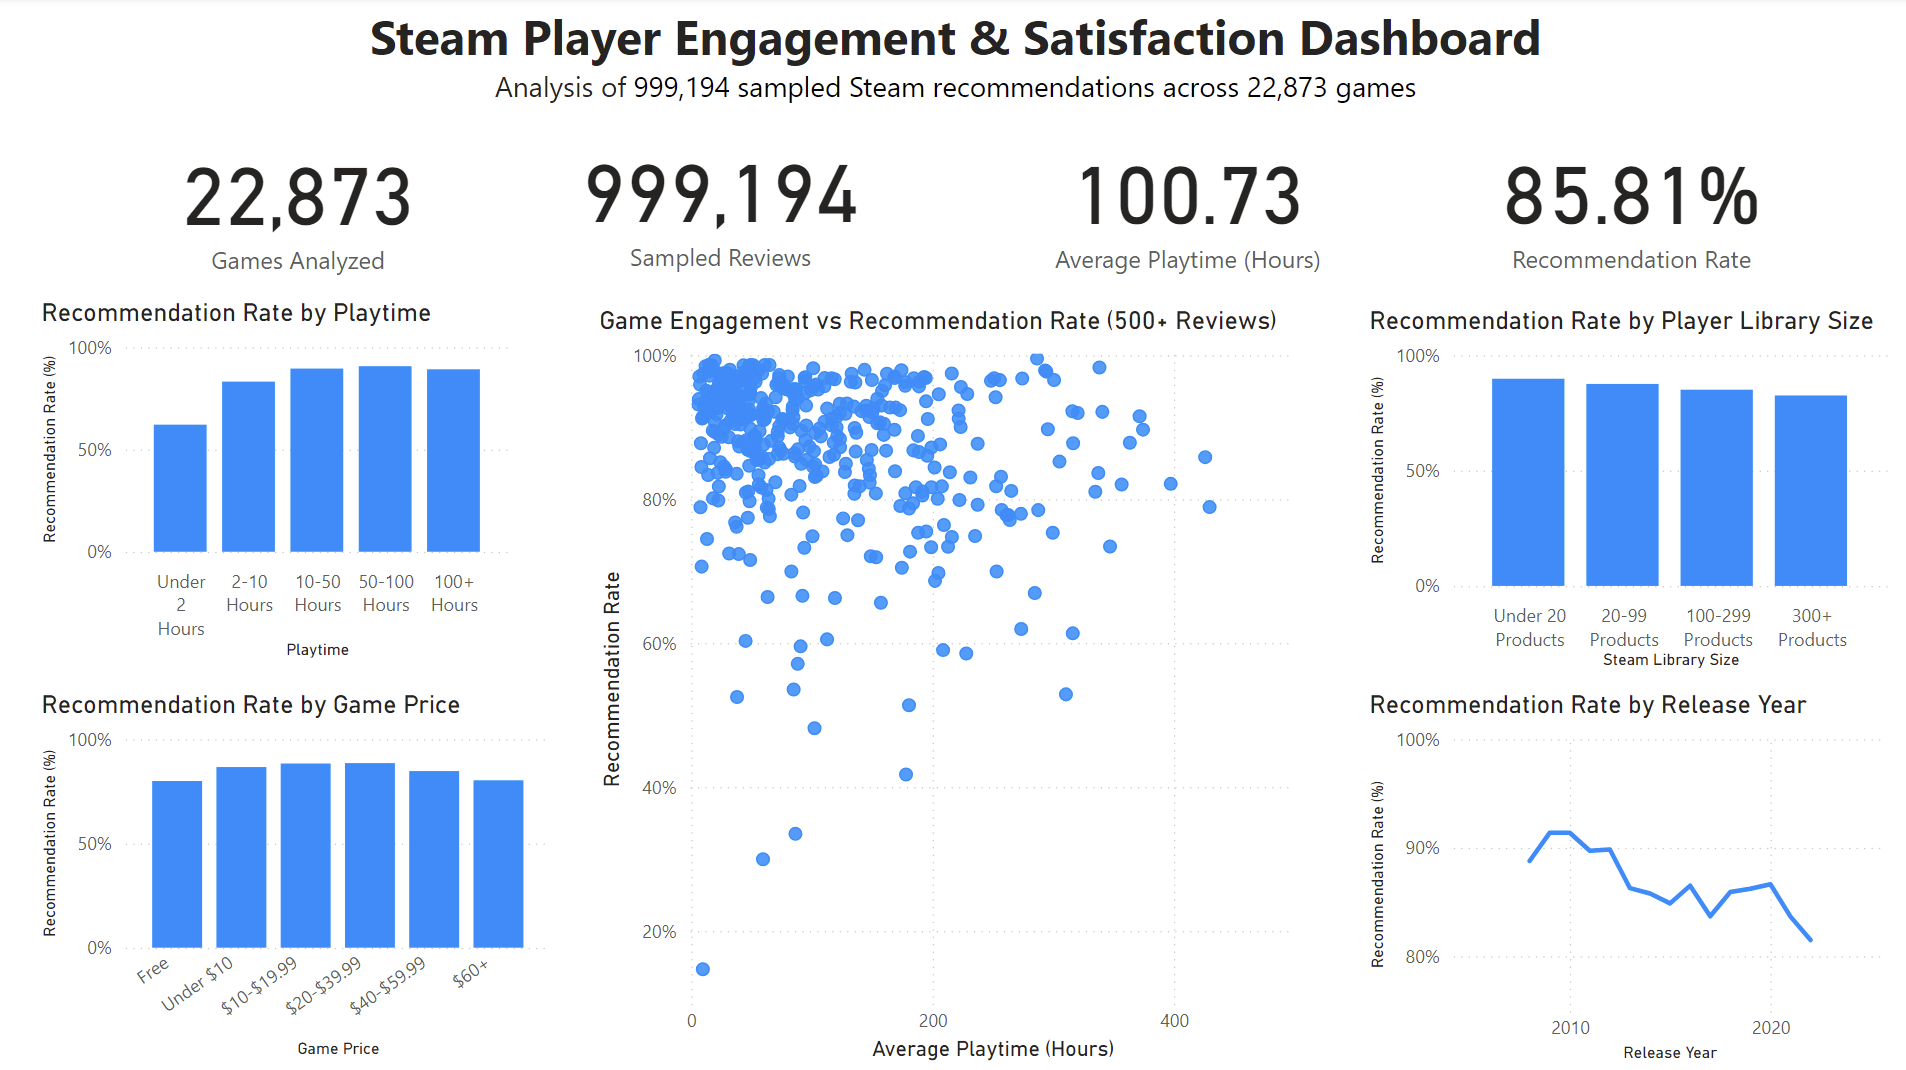

The page's visual inventory and layout, read from the dashboard file:
{"tool":"powerbi","page":{"name":"Page 1","canvas":[1280,720],"ordinal":0},"visuals":[{"type":"card","fields":{"Values":["public vw_game_performance.Games Analyzed"]},"box":[80.5,82,241.5,113],"z":0},{"type":"card","fields":{"Values":["public vw_game_performance.Sampled Reviews"]},"box":[376.1,75.8,215.1,119.2],"z":1000},{"type":"card","fields":{"Values":["public vw_game_performance.Average Playtime"]},"box":[693.4,80.5,208.9,114.5],"z":2000},{"type":"card","fields":{"Values":["public vw_game_performance.Recommendation Rate"]},"box":[992.1,80.5,205.9,114.5],"z":3000},{"type":"clusteredColumnChart","title":"Recommendation Rate by Playtime","fields":{"Category":["public vw_playtime_segments.playtime_segment"],"Y":["Sum(public vw_playtime_segments.recommendation_rate)"]},"box":[24.8,202.8,323.5,246.1],"z":4000},{"type":"clusteredColumnChart","title":"Recommendation Rate by Game Price","fields":{"Category":["public vw_price_segments.price_segment"],"Y":["Sum(public vw_price_segments.recommendation_rate)"]},"box":[24.8,465.9,351.3,250.7],"z":5000},{"type":"clusteredColumnChart","title":"Recommendation Rate by Player Library Size","fields":{"Category":["public vw_player_segments.library_segment"],"Y":["Sum(public vw_player_segments.recommendation_rate)"]},"box":[914.7,207.4,357.5,247.6],"z":6000},{"type":"scatterChart","title":"Game Engagement vs Recommendation Rate (500+ Reviews)","fields":{"X":["public vw_game_performance.avg_hours"],"Y":["public vw_game_performance.recommendation_rate"]},"box":[397.8,207.4,486,510.8],"z":7000},{"type":"lineChart","fields":{"Category":["public vw_release_year.release_year"],"Y":["Max(public vw_release_year.recommendation_rate)"]},"box":[914.7,465.9,359.1,253.8],"z":8000},{"type":"textbox","box":[187.3,0,908.5,88.2],"z":8001}]}

Visuals, with their boxes in screenshot pixels (x1, y1, x2, y2), scaled from the page's 1280x720 canvas onto the 1906x1070 screenshot:
card - public vw_game_performance.Games Analyzed: Rect(120, 122, 479, 290)
card - public vw_game_performance.Sampled Reviews: Rect(560, 113, 880, 290)
card - public vw_game_performance.Average Playtime: Rect(1033, 120, 1344, 290)
card - public vw_game_performance.Recommendation Rate: Rect(1477, 120, 1784, 290)
"Recommendation Rate by Playtime" clusteredColumnChart: Rect(37, 301, 519, 667)
"Recommendation Rate by Game Price" clusteredColumnChart: Rect(37, 692, 560, 1065)
"Recommendation Rate by Player Library Size" clusteredColumnChart: Rect(1362, 308, 1894, 676)
"Game Engagement vs Recommendation Rate (500+ Reviews)" scatterChart: Rect(592, 308, 1316, 1067)
lineChart - public vw_release_year.release_year x Max(public vw_release_year.recommendation_rate): Rect(1362, 692, 1897, 1069)
textbox: Rect(279, 0, 1632, 131)
